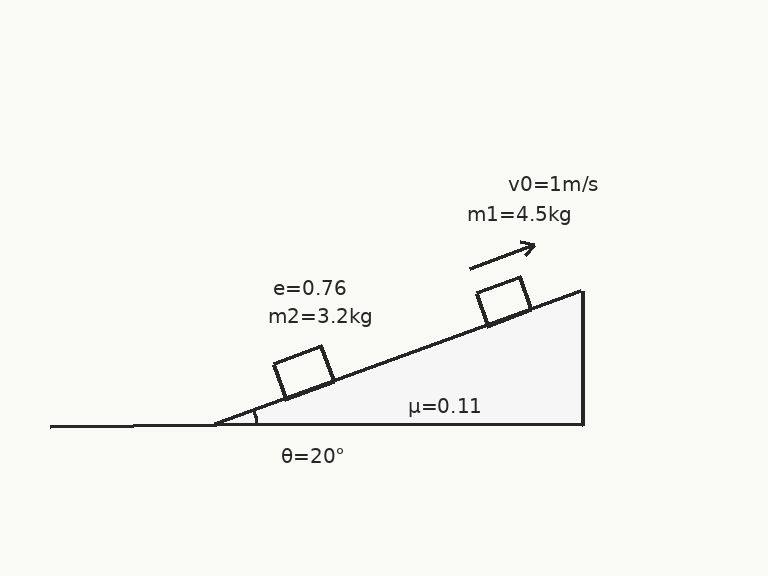block: (271, 344, 336, 401), (474, 275, 533, 327)
ramp: (214, 289, 584, 426)
